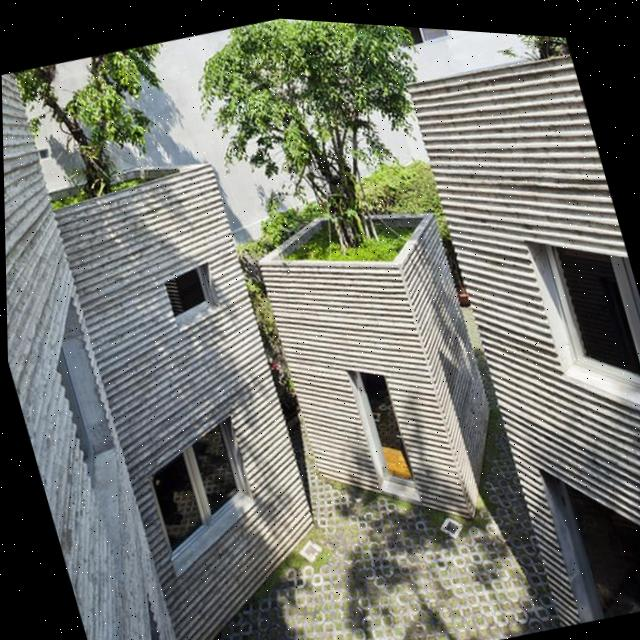building: (27, 127, 341, 640), (394, 26, 640, 635), (238, 154, 515, 585)
